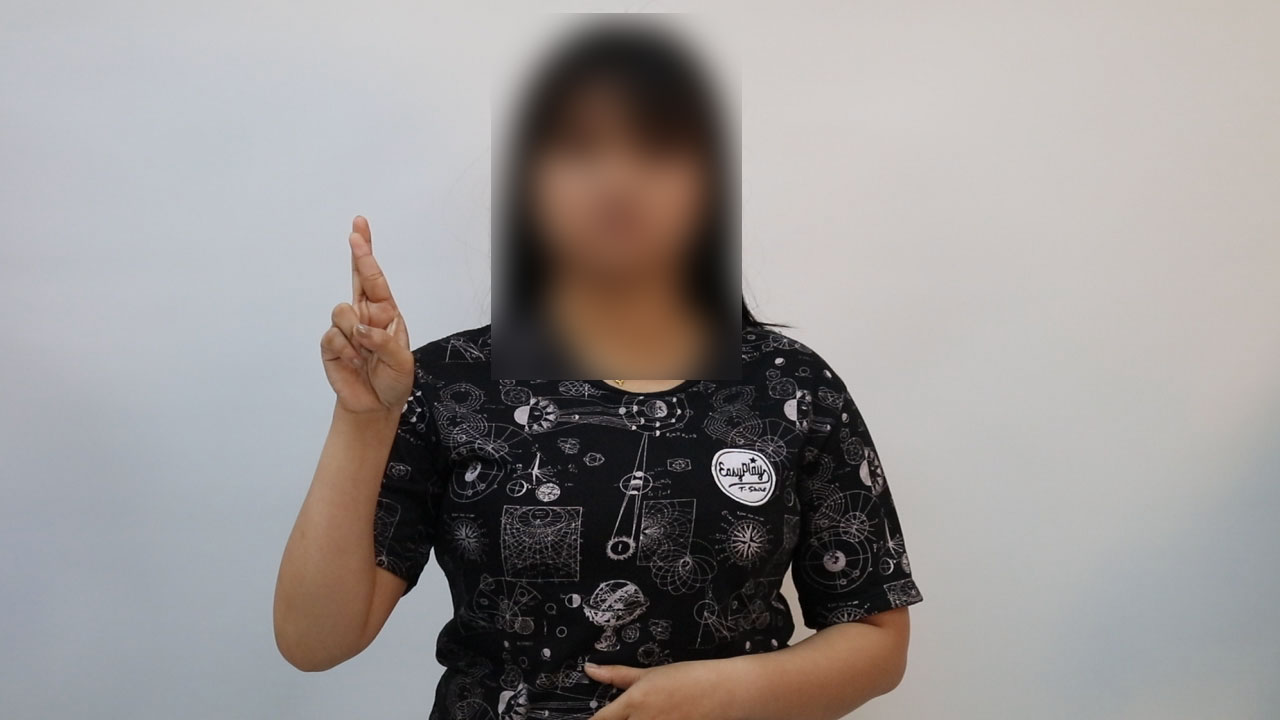rao: (296, 212, 422, 430)
